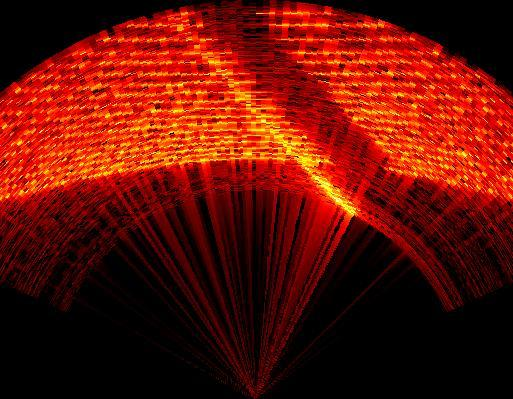pipe: (175, 5, 394, 215)
